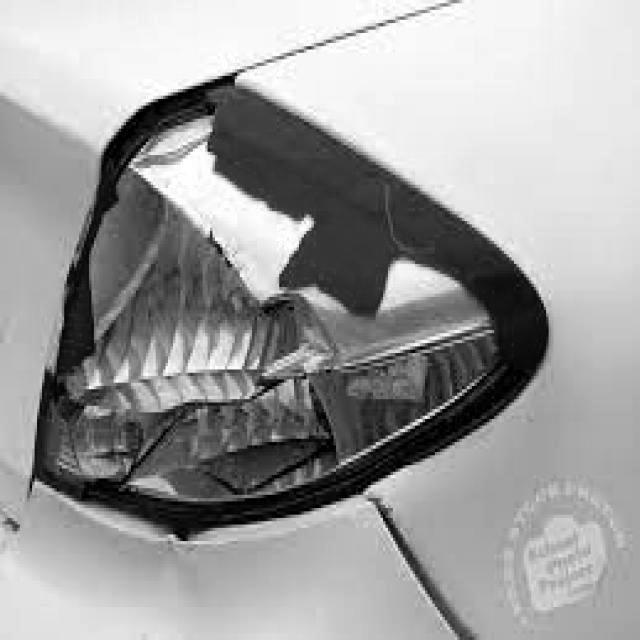Headlight-damage: (12, 72, 543, 540)
